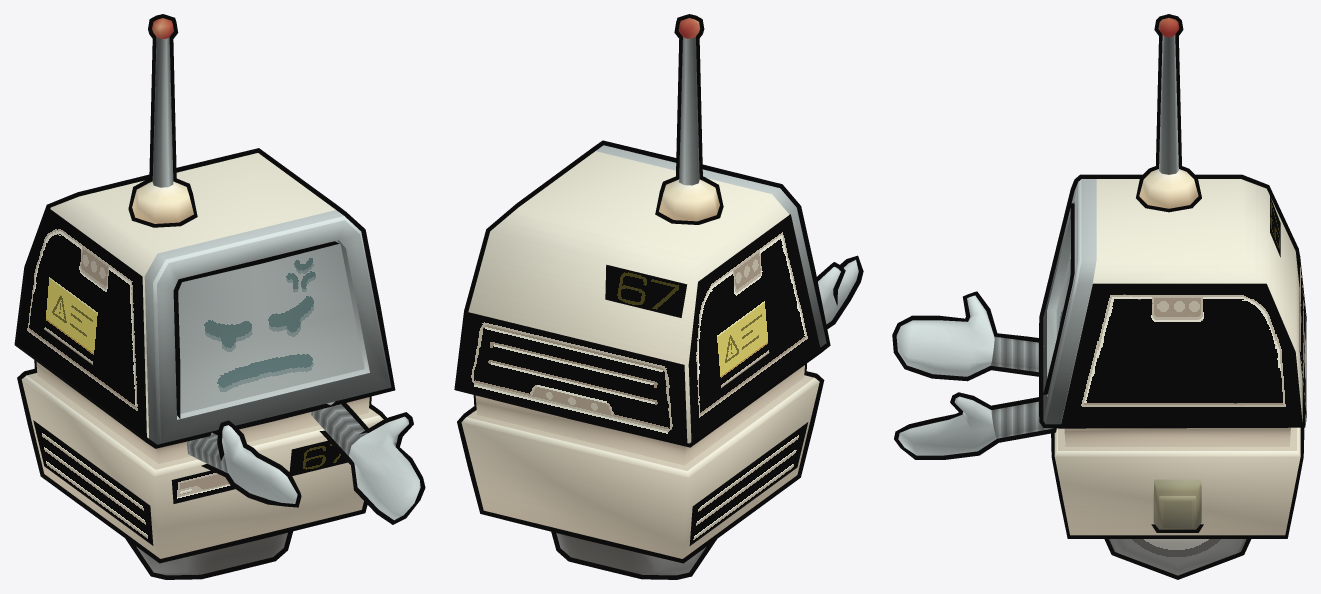
Rendered from MC_archive.glb.
3 renders of one model, left to right at view 1: azimuth 30°, elevation 25°; view 2: azimuth 150°, elevation 25°; view 3: azimuth 270°, elevation 25°, orthographic. The views are drawn at different scales.
Visible parts, largest first — view 1: MC_archive; view 2: MC_archive; view 3: MC_archive.
Boxes of the visible parts, x1=… form: MC_archive: x1=14, y1=14, x2=425, y2=579; MC_archive: x1=454, y1=14, x2=863, y2=579; MC_archive: x1=892, y1=14, x2=1306, y2=579.
Size of the model in its own units: 1.3 by 2.77 by 1.97.
Materials: 1 (1 with a texture image).
